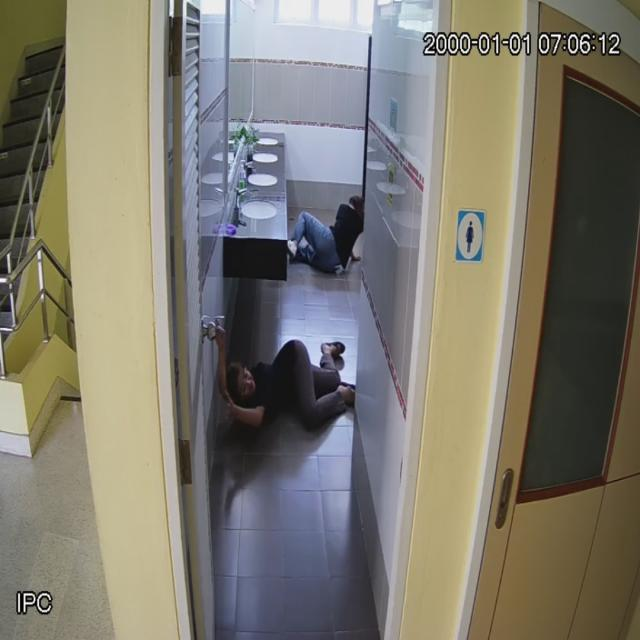fall: (217, 330, 355, 433), (290, 193, 363, 277)
